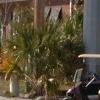Palm tree: (14, 20, 64, 87)
